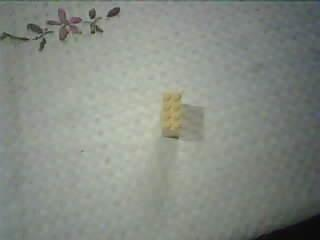lego: (158, 89, 184, 137)
